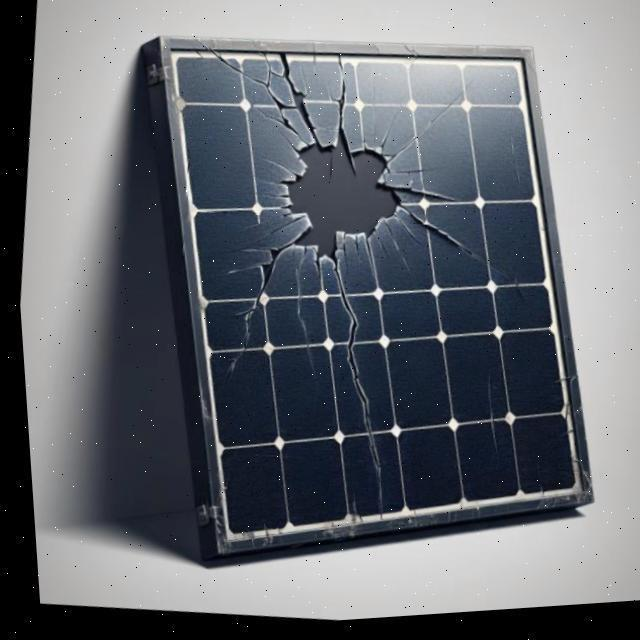Anomaly Solar Panel: (172, 14, 574, 541)
Structural Damage: (159, 209, 306, 387), (267, 127, 407, 267), (322, 253, 390, 524), (211, 27, 326, 161), (395, 205, 512, 288), (382, 85, 474, 170), (273, 53, 337, 152), (241, 133, 313, 204), (288, 250, 315, 397), (226, 208, 307, 252), (324, 60, 353, 156), (382, 183, 458, 208), (374, 105, 406, 158), (378, 221, 408, 277), (390, 218, 426, 256), (386, 169, 444, 181), (360, 239, 375, 285), (369, 230, 388, 266), (351, 239, 358, 267)
